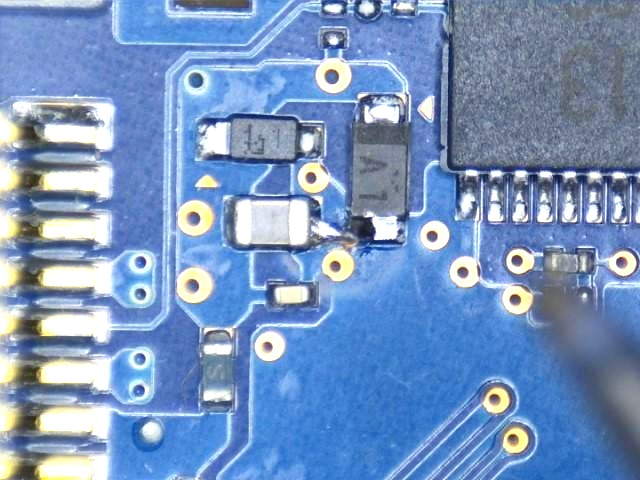pcb_defect: (288, 196, 397, 249)
